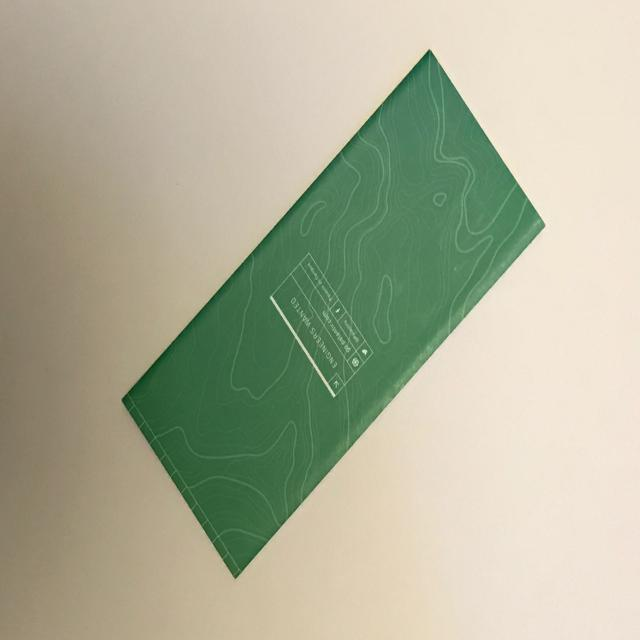paper: (80, 32, 571, 589)
